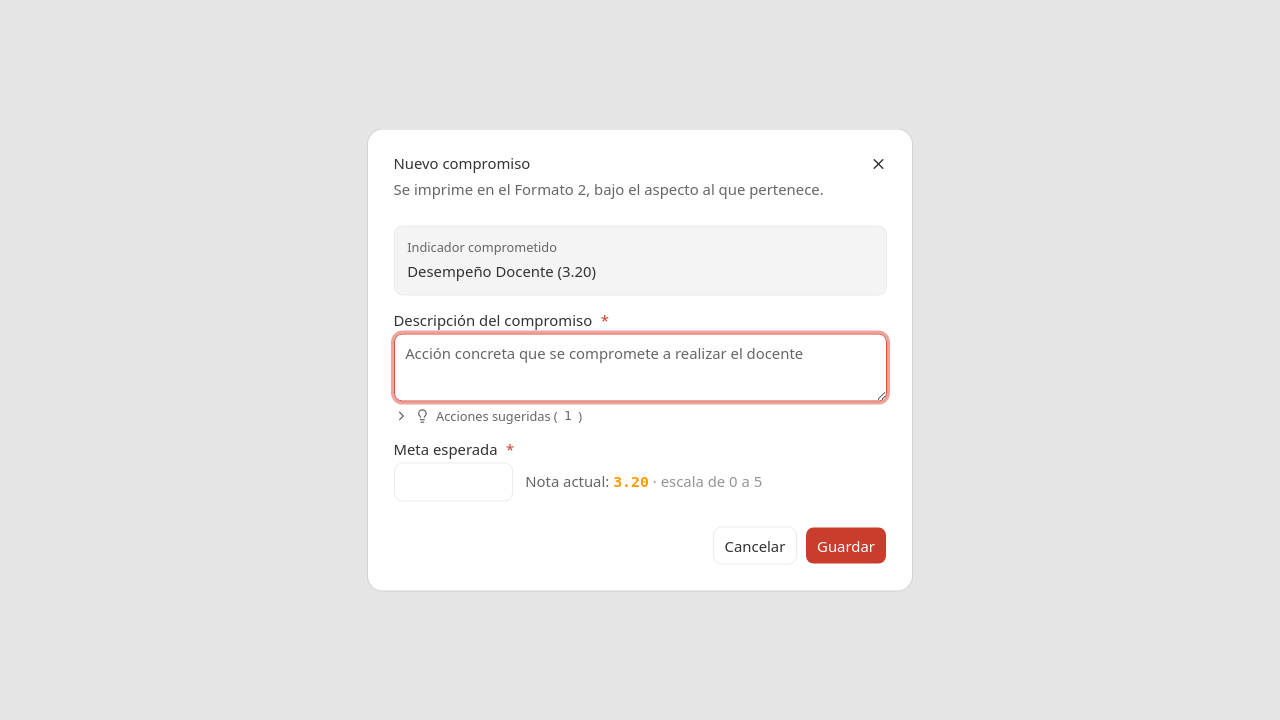
CommitmentDialog › only offers the actions written for this commitment’s aspect
The width and height of the screenshot is (1280, 720).
Click the button "Acciones sugeridas ( 1 )". click: x=488, y=416
box: [394,408,582,425]
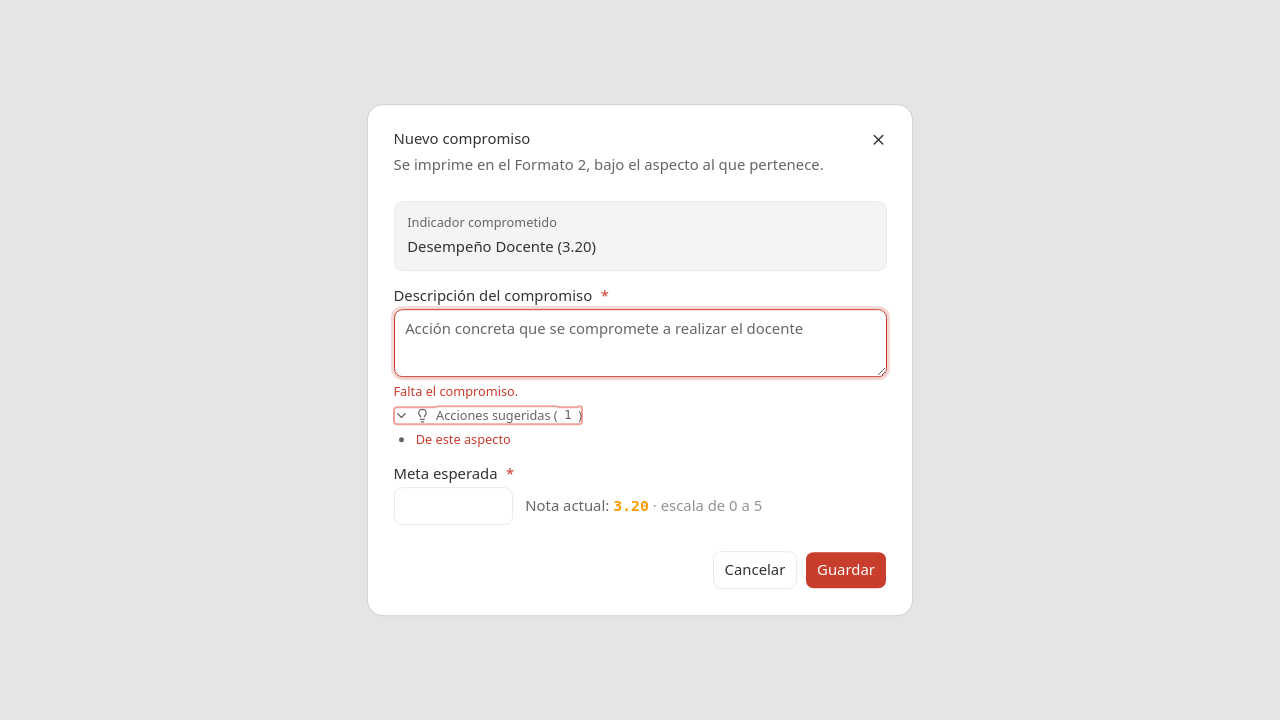
Now the button "De este aspecto" is shown, box [415,430,512,449]
